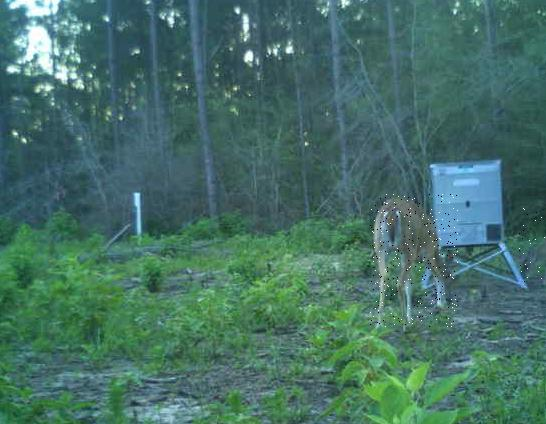Deer: (370, 194, 458, 327), (519, 206, 546, 286)
